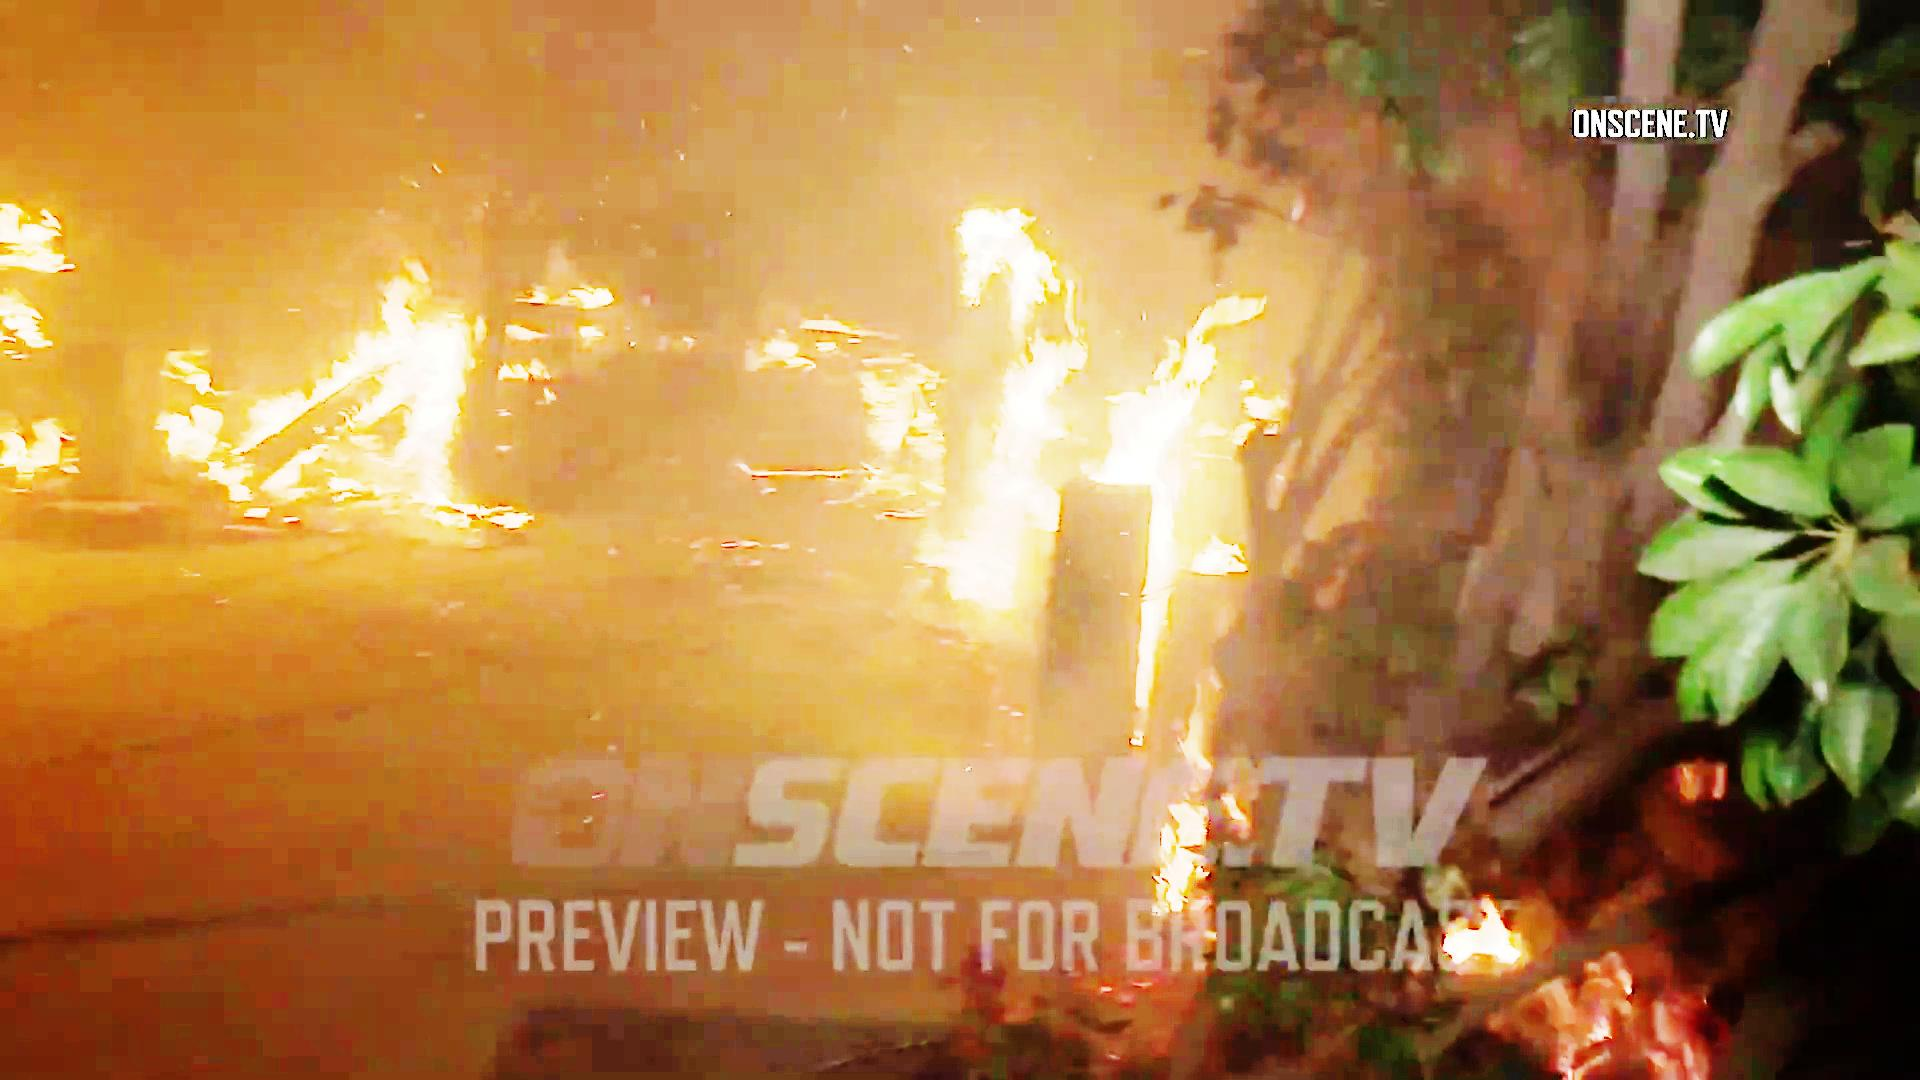fire: (938, 181, 1259, 479), (186, 225, 483, 497)
